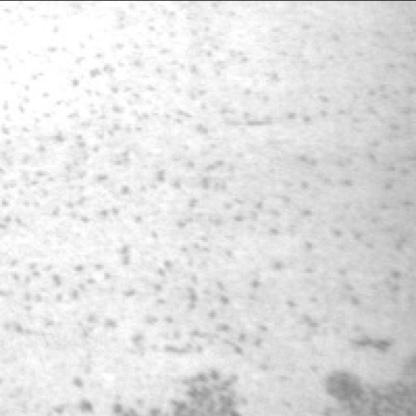pitted_surface: (0, 38, 360, 350), (46, 366, 241, 414), (318, 358, 412, 414)
